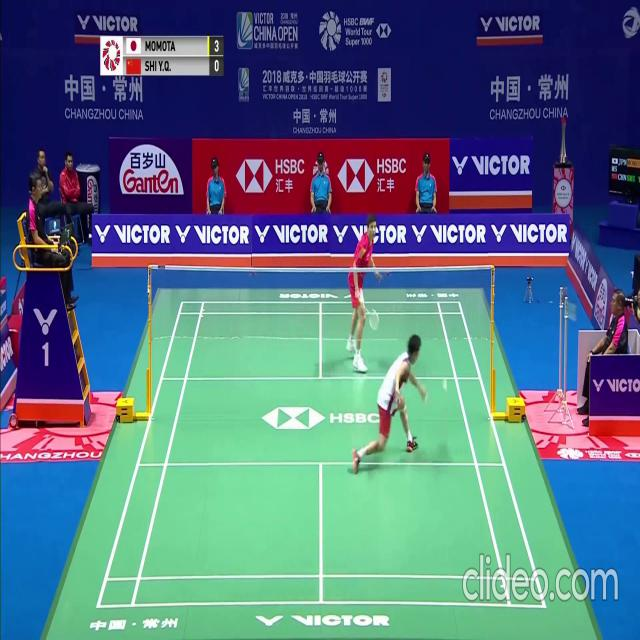Shuttlecock: (444, 384, 448, 391)
